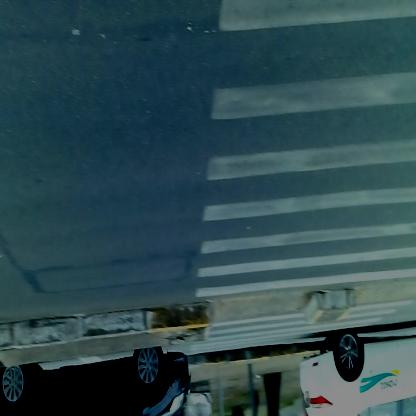crosswalk: (194, 2, 415, 308)
sidewalk: (192, 340, 302, 374)
